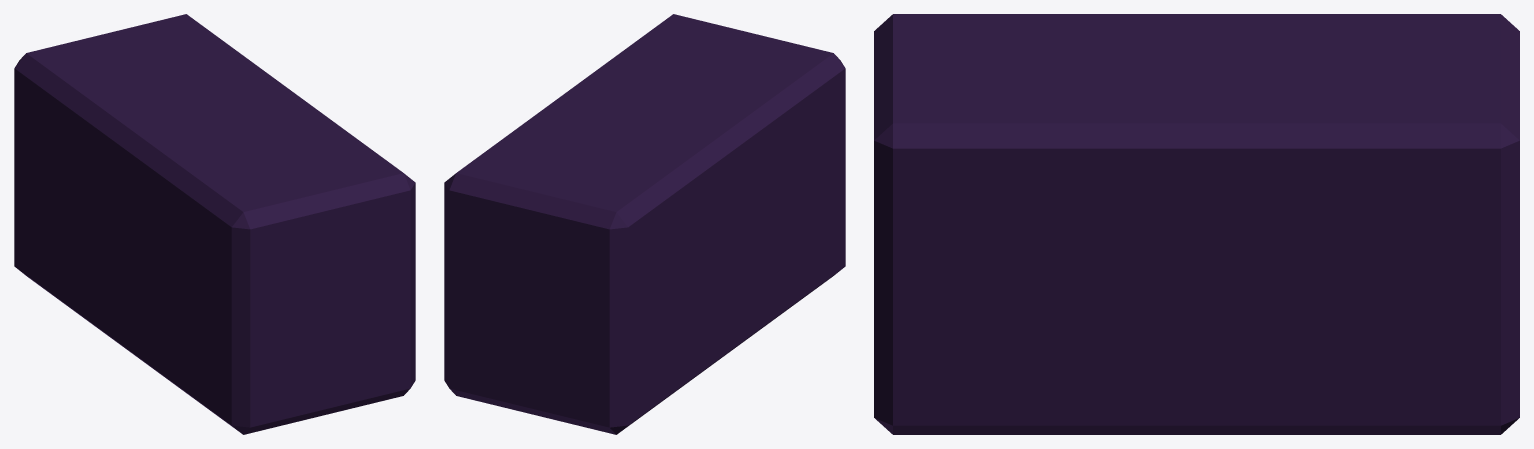
File: brick0.glb
The picture shows the model from 3 angles, left to right: view 1: azimuth 30°, elevation 25°; view 2: azimuth 150°, elevation 25°; view 3: azimuth 270°, elevation 25°; orthographic projection. The views are drawn at different scales.
Visible parts, largest first — view 1: BrickCrack0; view 2: BrickCrack0; view 3: BrickCrack0.
Boxes of the visible parts, x1,y1,x2,y2 form: BrickCrack0: (14, 14, 415, 434); BrickCrack0: (444, 14, 845, 434); BrickCrack0: (874, 14, 1519, 434).
Bounding box in the file's own units: 1.73 × 2 × 3.76.
